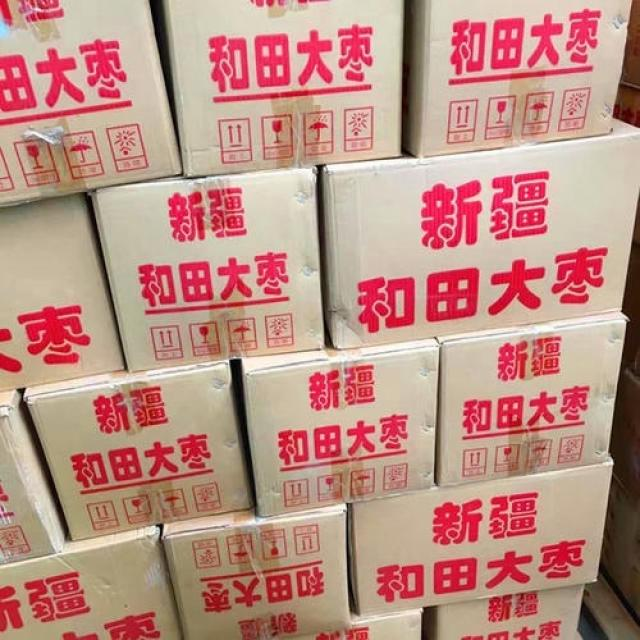box: (321, 117, 639, 349), (86, 167, 327, 375), (161, 2, 402, 178), (347, 461, 612, 617), (25, 362, 252, 541), (0, 1, 185, 206), (239, 339, 446, 519), (401, 3, 634, 159), (437, 313, 630, 488), (0, 194, 128, 393), (163, 505, 350, 638), (0, 524, 183, 639), (0, 390, 71, 567), (435, 582, 582, 639), (288, 609, 424, 639)
